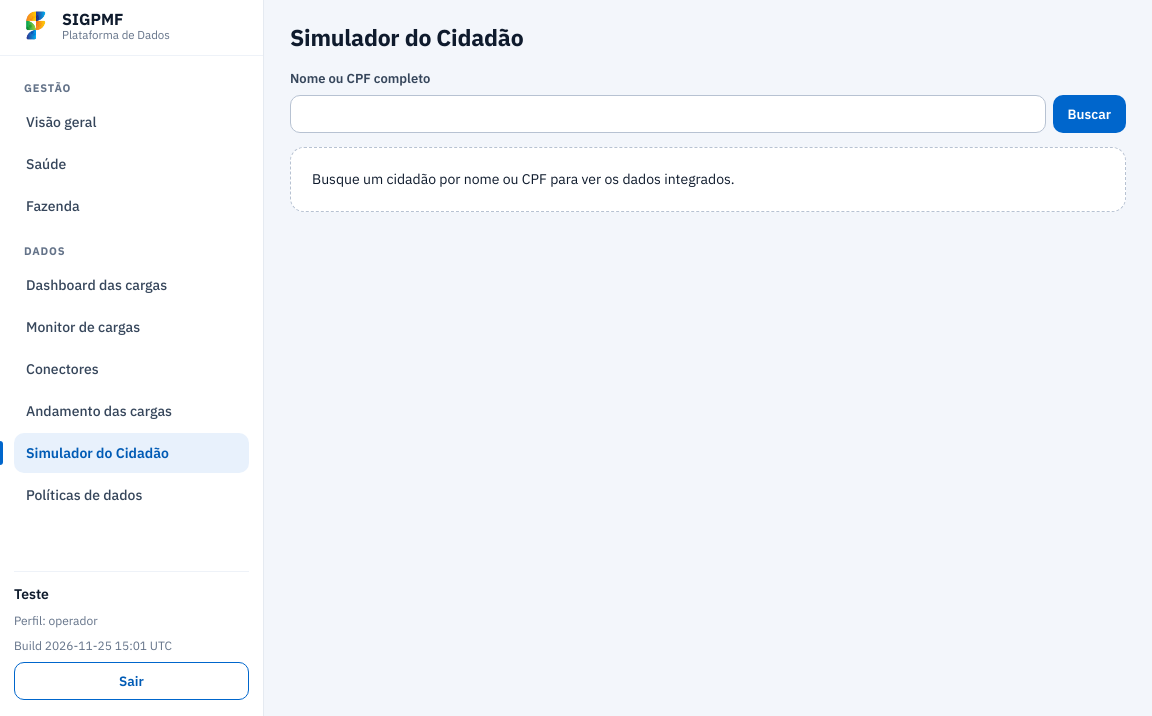
Test: ficha do cidadão (tela branca) › pessoa sem vínculos mostra —
The width and height of the screenshot is (1152, 716).
Step 1. Type "Fulano" into the field labelled "Nome ou CPF completo" → [668, 114], box x1=290 y1=95 x2=1046 y2=133
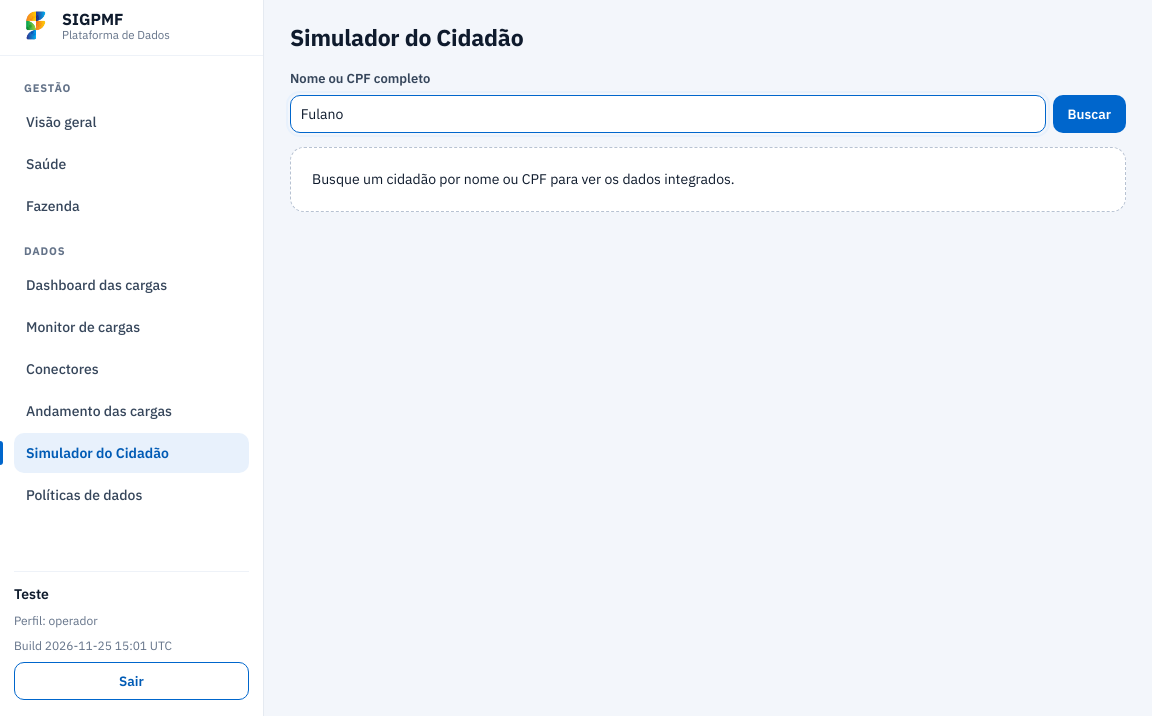
Step 2. Click the button "Buscar" → [1089, 114], box x1=1053 y1=95 x2=1126 y2=133
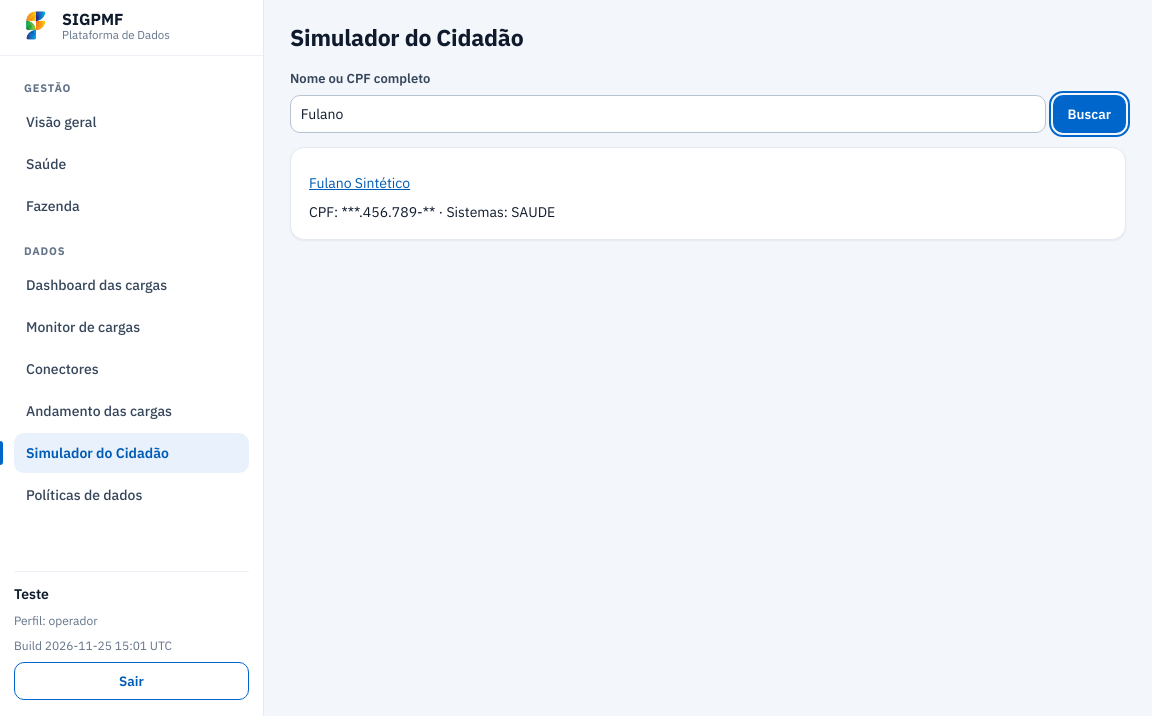
Step 3. Click the button "Fulano Sintético" → [360, 183], box x1=309 y1=164 x2=410 y2=202
(page scrolled)
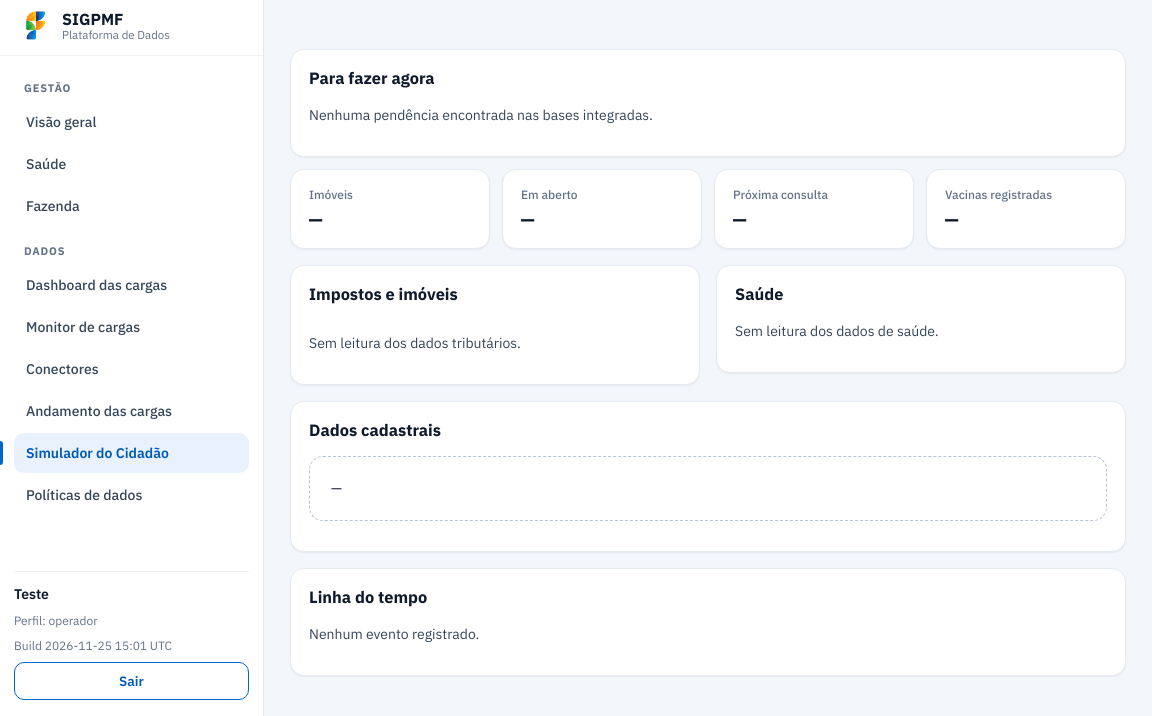
Now the text "—" below "Dados cadastrais" is shown, box x1=331 y1=479 x2=342 y2=497
